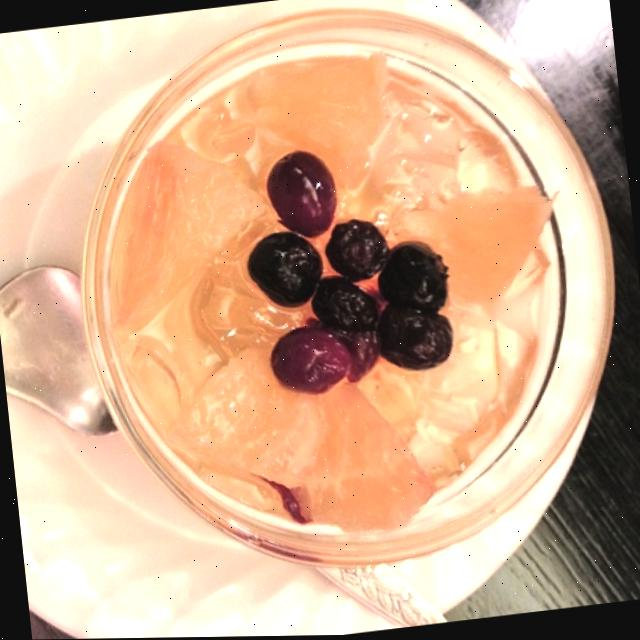蛋糕甜品: (37, 0, 640, 615)
